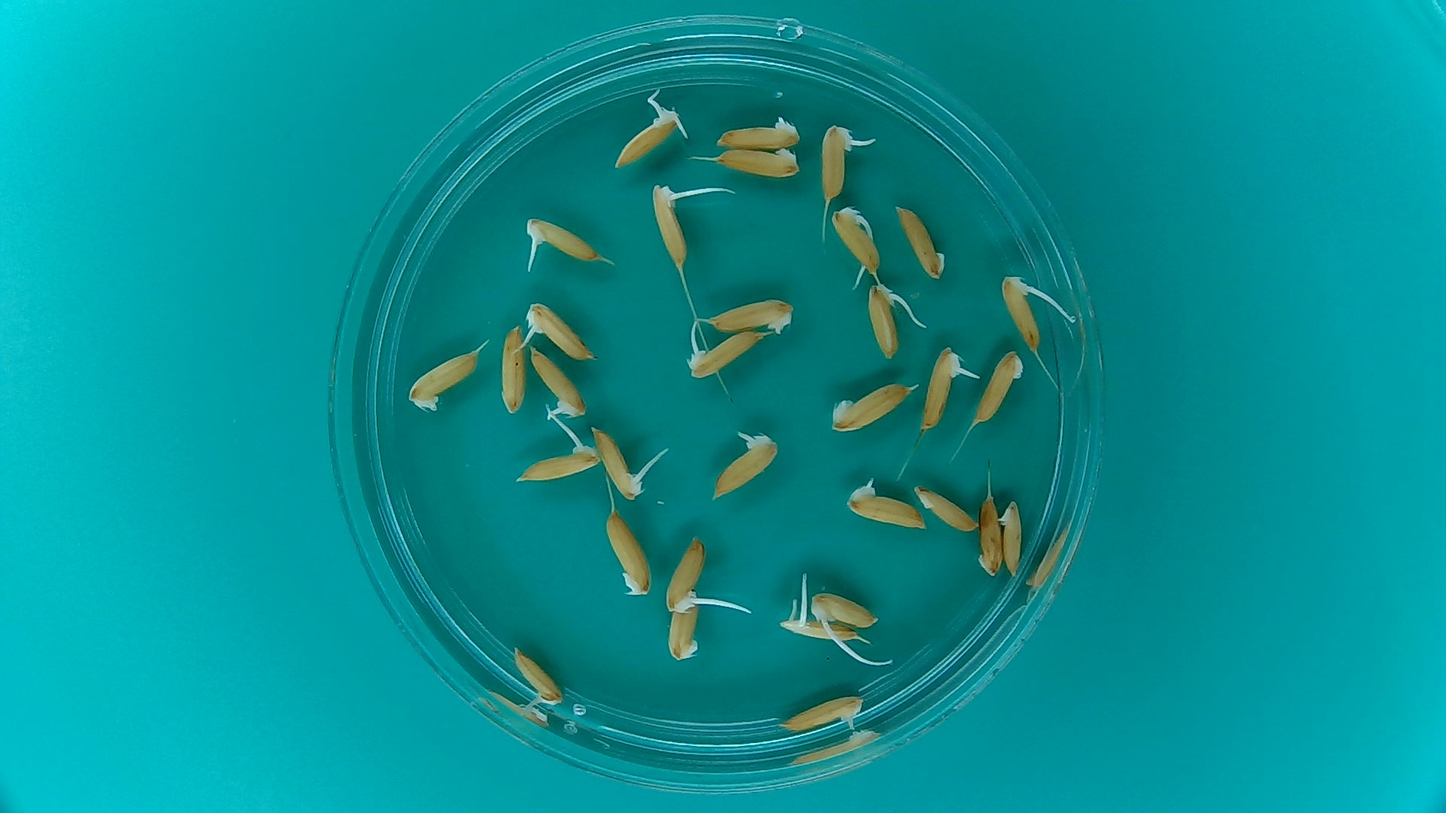no: (404, 345, 484, 415), (827, 376, 917, 434), (603, 506, 654, 600), (892, 199, 949, 282), (972, 347, 1029, 429), (704, 293, 798, 335), (712, 111, 801, 150), (911, 484, 980, 533), (712, 143, 803, 179), (497, 321, 529, 418), (665, 597, 704, 662), (999, 499, 1028, 578), (976, 491, 1002, 578)
yes: (609, 105, 683, 172), (521, 303, 600, 364), (526, 343, 587, 420), (511, 435, 601, 486), (713, 434, 782, 498), (524, 215, 603, 269), (683, 328, 766, 379), (829, 203, 884, 279), (923, 344, 969, 434), (590, 429, 646, 502), (650, 178, 694, 269), (842, 483, 923, 531), (863, 280, 909, 362), (508, 644, 567, 707), (778, 690, 862, 733), (997, 274, 1041, 352), (665, 536, 706, 615), (818, 125, 857, 202), (809, 589, 883, 627), (783, 618, 867, 643)
